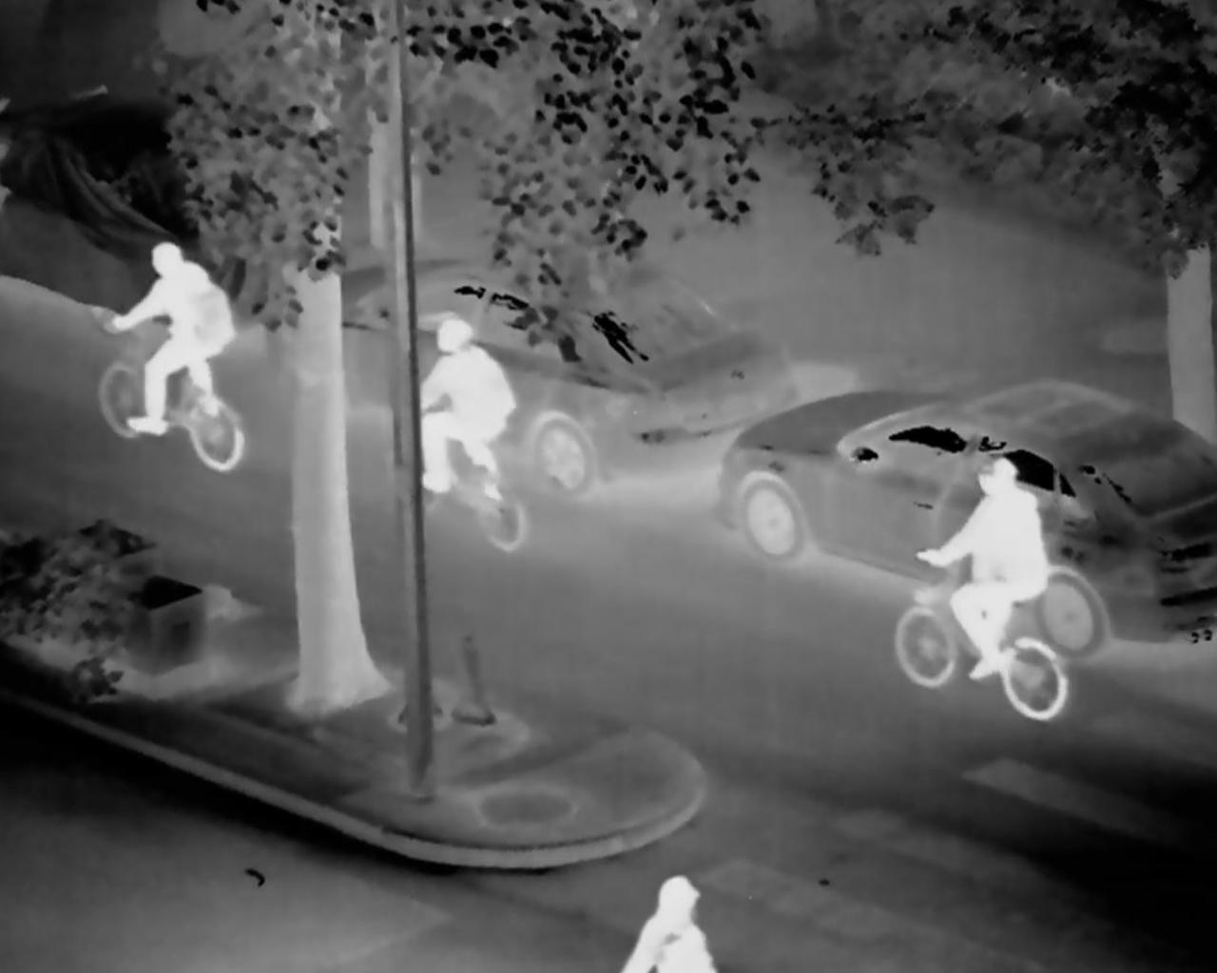person: (915, 455, 1061, 704), (102, 236, 243, 475), (414, 318, 527, 522)
